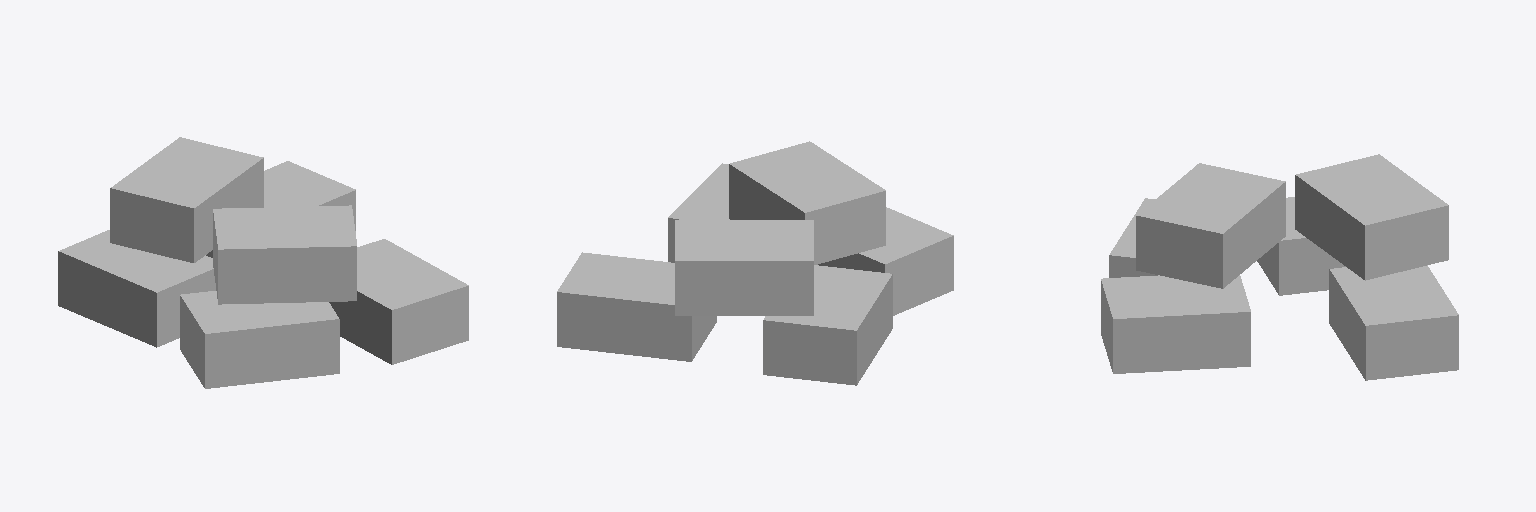
File: debris.obj
3 views of the same model, side by side, from view 1: azimuth 30°, elevation 25°; view 2: azimuth 150°, elevation 25°; view 3: azimuth 270°, elevation 25° (orthographic).
Parts seen in each view (by area): view 1: debris; view 2: debris; view 3: debris.
Part boxes in pixels (left/top/right/bottom): debris: left=58, top=137, right=468, bottom=388; debris: left=557, top=141, right=953, bottom=385; debris: left=1101, top=154, right=1458, bottom=380.
Size of the model in its own units: 0.4365 by 0.16 by 0.4731.